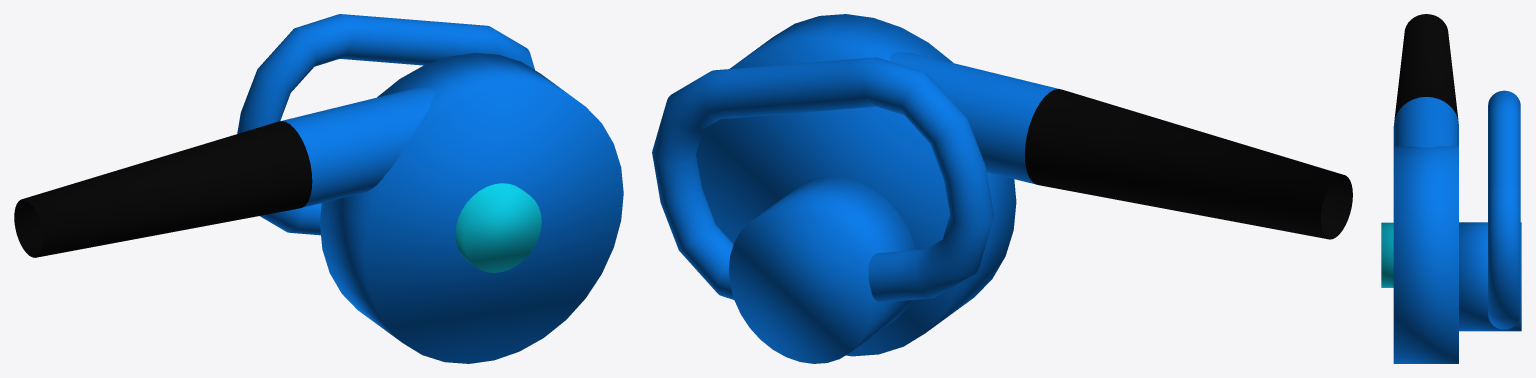
Rendered from Blower.fbx.
3 views of the same model, side by side, from view 1: azimuth 30°, elevation 25°; view 2: azimuth 150°, elevation 25°; view 3: azimuth 270°, elevation 25° (orthographic). The views are drawn at different scales.
Parts seen in each view (by area): view 1: Blower; view 2: Blower; view 3: Blower.
Part boxes in pixels (x1,y1,x2,y2): Blower: [14, 14, 623, 363]; Blower: [652, 14, 1352, 363]; Blower: [1381, 14, 1521, 363].
Bounding box in the file's own units: 4.42 × 2.27 × 1.29.
